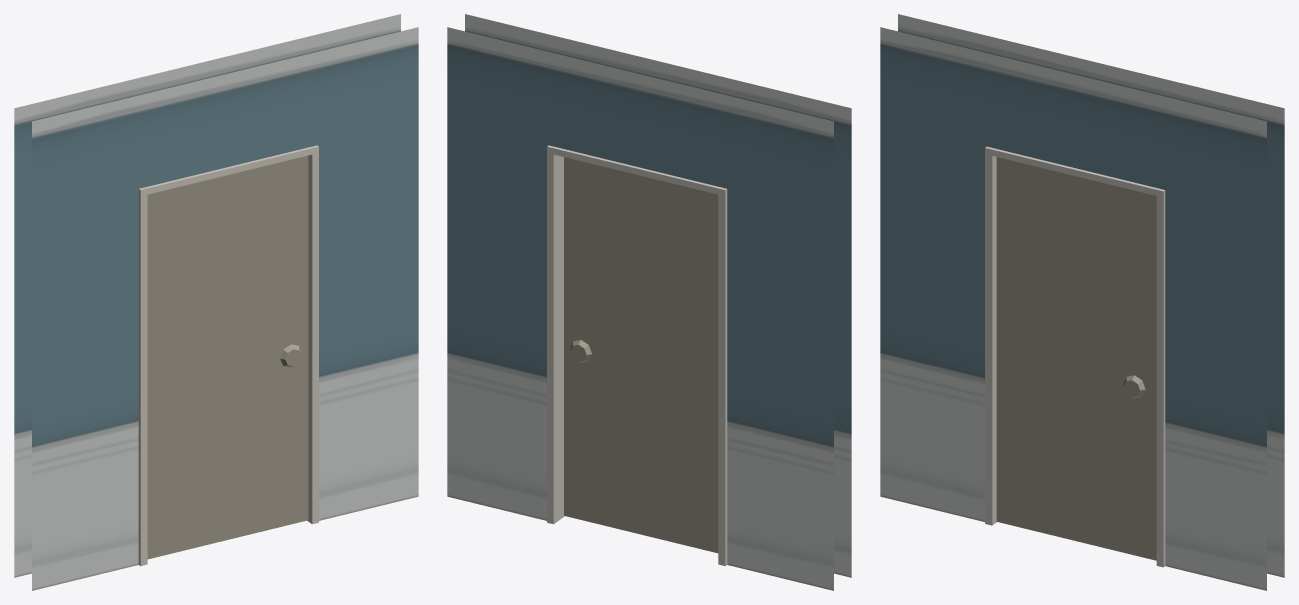
The model's file is SM_Bld_House_InteriorWall_Door_01.fbx.
3 views of the same model, side by side, from view 1: azimuth 30°, elevation 25°; view 2: azimuth 150°, elevation 25°; view 3: azimuth 330°, elevation 25° (orthographic).
Parts seen in each view (by area): view 1: SM_Bld_House_InteriorWall_Door_01, SM_Bld_House_InteriorWall_Door_02; view 2: SM_Bld_House_InteriorWall_Door_01, SM_Bld_House_InteriorWall_Door_02; view 3: SM_Bld_House_InteriorWall_Door_01, SM_Bld_House_InteriorWall_Door_02.
Part boxes in pixels (<box>): SM_Bld_House_InteriorWall_Door_01: <box>14,14,418,590</box>; SM_Bld_House_InteriorWall_Door_02: <box>147,155,308,559</box>; SM_Bld_House_InteriorWall_Door_01: <box>447,14,851,590</box>; SM_Bld_House_InteriorWall_Door_02: <box>564,157,718,553</box>; SM_Bld_House_InteriorWall_Door_01: <box>880,14,1284,590</box>; SM_Bld_House_InteriorWall_Door_02: <box>996,157,1156,560</box>.
Size of the model in its own units: 250 by 290 by 27.35.
